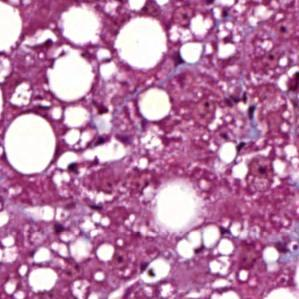steatosis: (2, 111, 60, 175)
